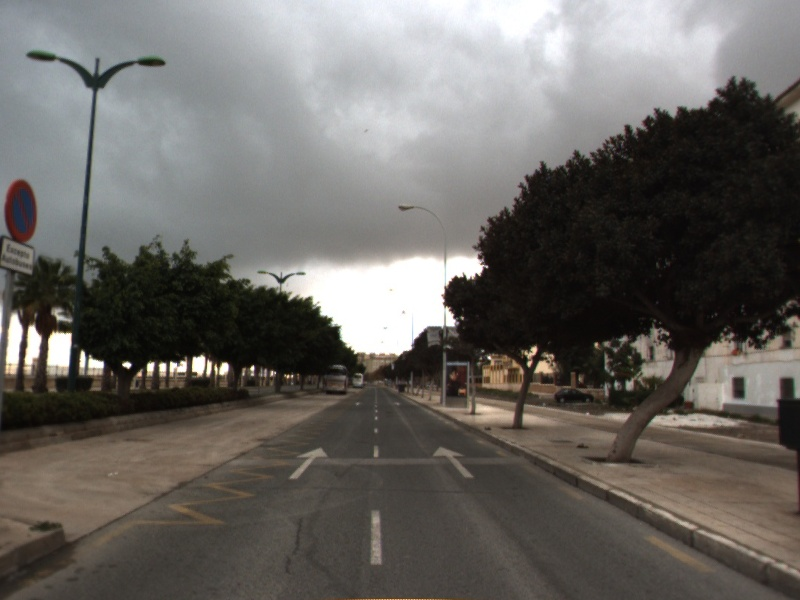STRAIGHT: (431, 444, 478, 480), (287, 445, 330, 481)
